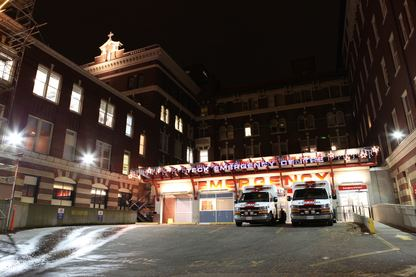ambulance: (287, 180, 337, 226), (234, 185, 287, 226)
